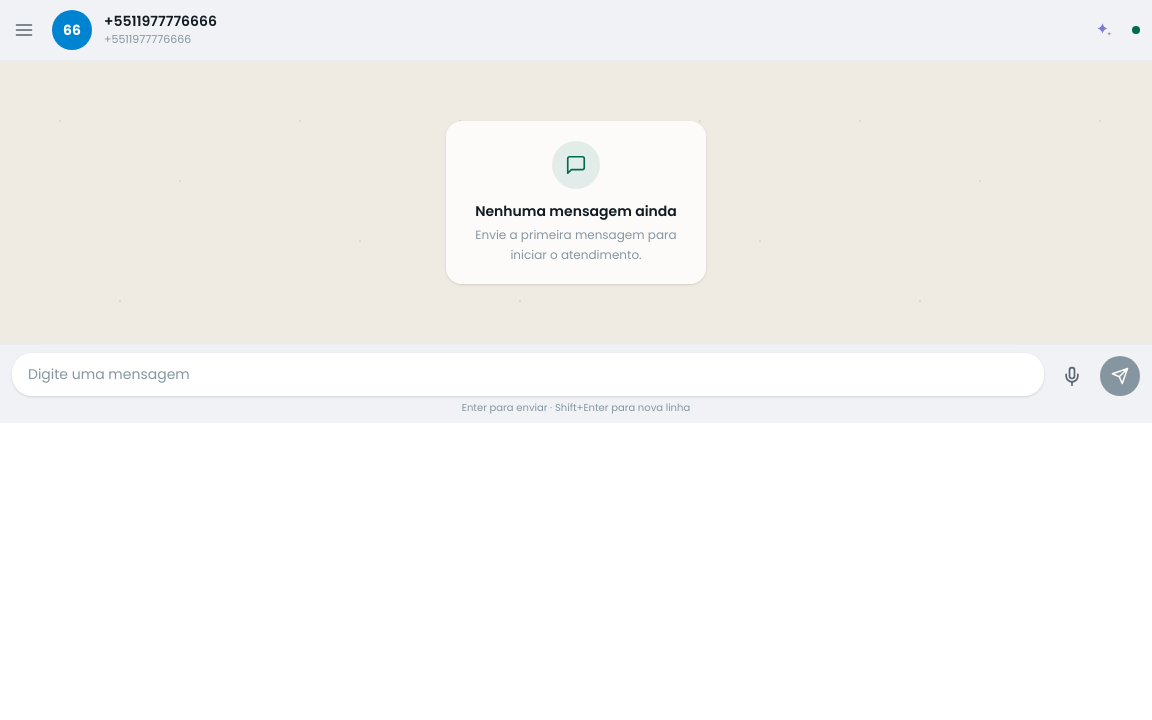
it: Resumo por IA (assistente lateral) › enquanto a IA lê a conversa mostra o carregamento
Click the button named "Resumo do atendimento por IA" at [1104, 30], box [1088,14,1120,46]
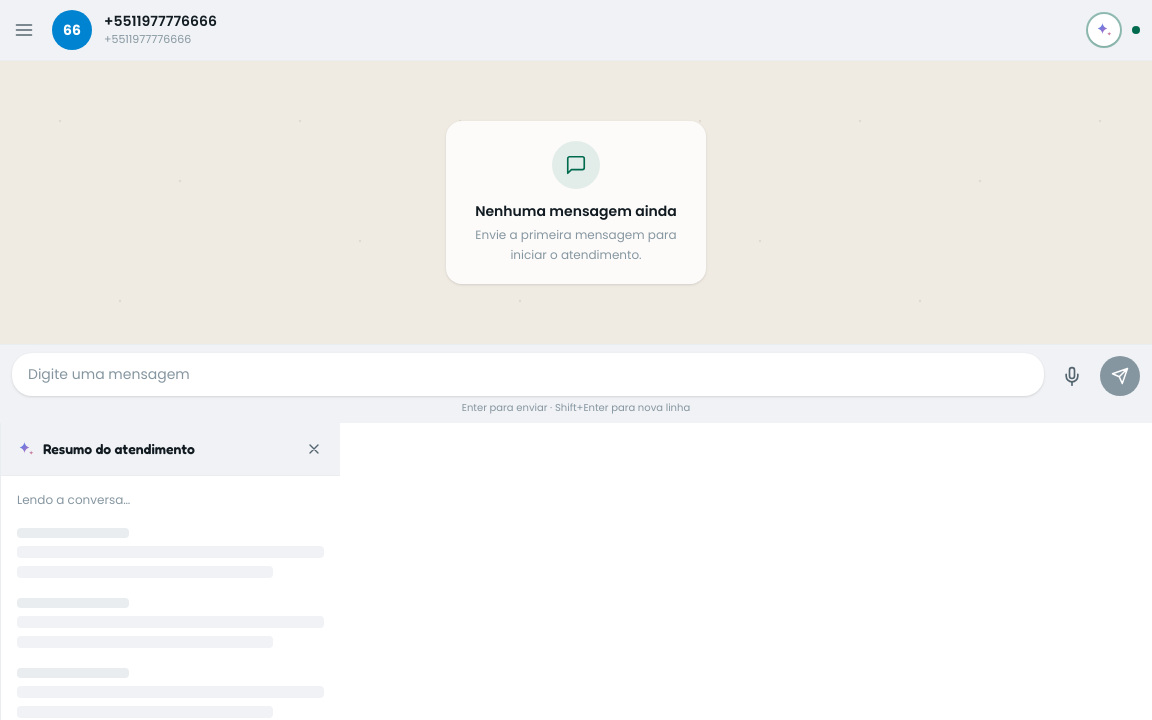
Now the message named "Gerando resumo" is shown, box [17,492,324,718]
